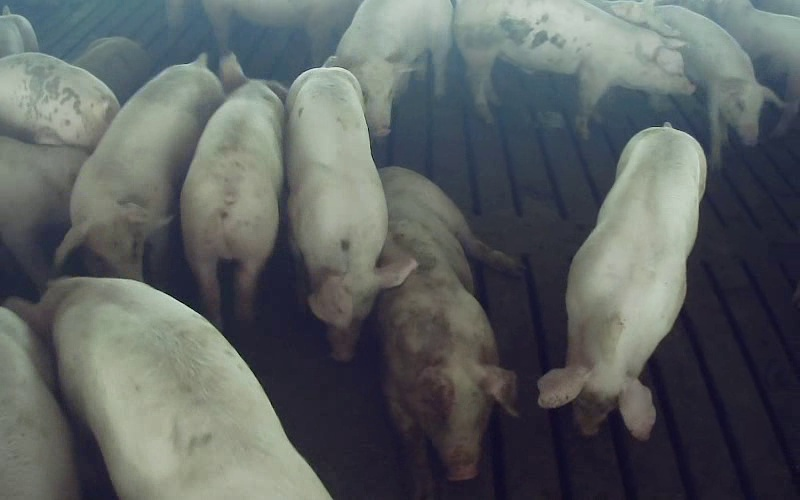pig: (7, 277, 330, 499), (538, 124, 706, 439), (378, 167, 519, 496), (285, 57, 416, 360), (55, 55, 223, 279), (455, 0, 694, 138), (180, 53, 285, 326), (656, 6, 782, 168)
